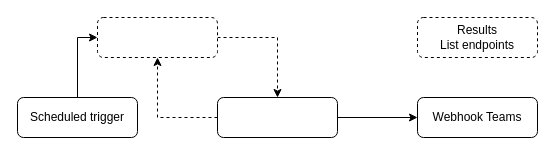
Image size: 555x155. Some labels were removed from this diagram. Each missing label, with the centre of its shape:
Call endpoint OPTIONS: the point at 277,117
List endpoints: the point at 157,37
